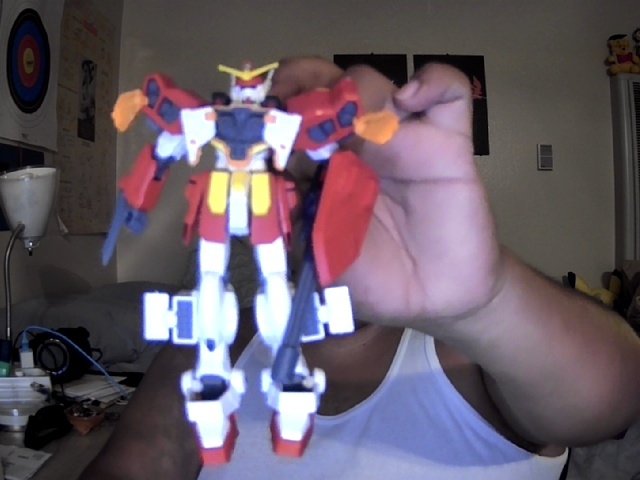Deatharms: (102, 60, 399, 468)
